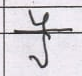ai_matra: (28, 10, 50, 30)
